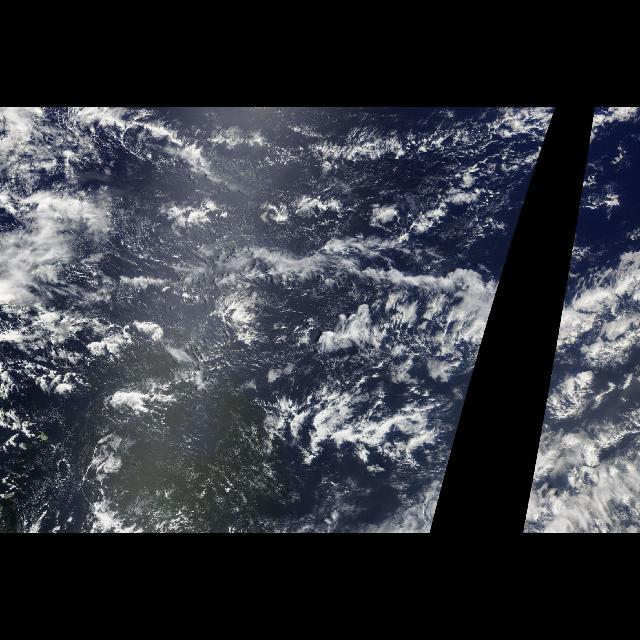Fish: (118, 218, 520, 506)
